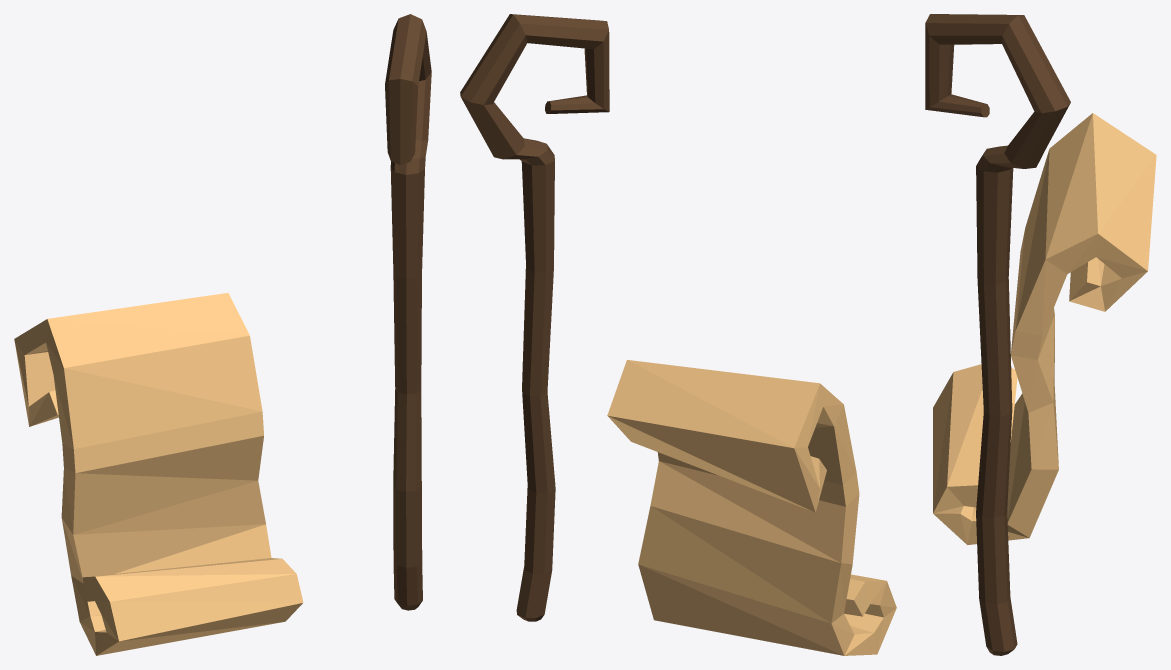
File: Scroll + Staff.glb
3 renders of one model, left to right at view 1: azimuth 30°, elevation 25°; view 2: azimuth 150°, elevation 25°; view 3: azimuth 270°, elevation 25°, orthographic. The views are drawn at different scales.
Visible parts, largest first — view 1: group1349871061, Cylinder; view 2: group1349871061, Cylinder; view 3: group1349871061, Cylinder.
Part boxes in pixels (left/top/right/bottom): group1349871061: left=14, top=293, right=303, bottom=655; Cylinder: left=385, top=14, right=431, bottom=610; group1349871061: left=607, top=360, right=896, bottom=655; Cylinder: left=460, top=14, right=609, bottom=621; group1349871061: left=933, top=113, right=1156, bottom=544; Cylinder: left=925, top=14, right=1070, bottom=655.
Size of the model in its own units: 1.79 by 2.68 by 0.8763.
